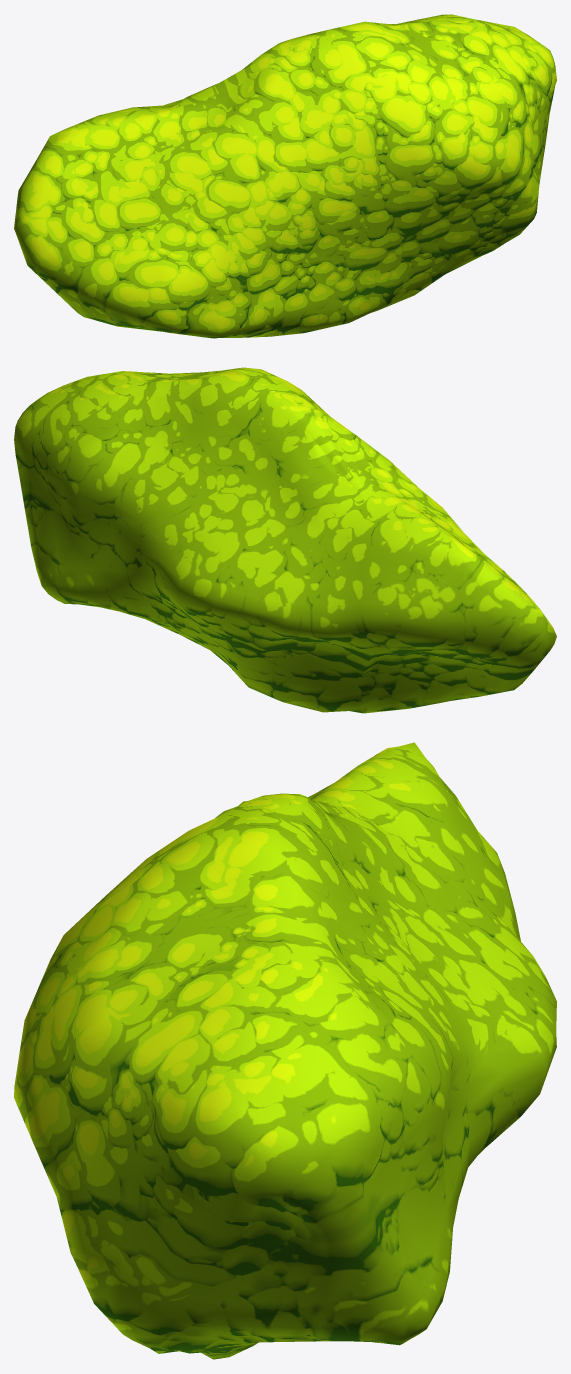
Rendered from leaves6.glb.
The picture shows the model from 3 angles, top to bottom: view 1: azimuth 30°, elevation 25°; view 2: azimuth 150°, elevation 25°; view 3: azimuth 270°, elevation 25°; orthographic projection. The views are drawn at different scales.
Visible parts, largest first — view 1: LP.002; view 2: LP.002; view 3: LP.002.
Boxes of the visible parts, x1,y1,x2,y2 form: LP.002: [14, 14, 556, 338]; LP.002: [14, 367, 556, 713]; LP.002: [14, 742, 556, 1359].
Bounding box in the file's own units: 3.53 × 1.83 × 1.77.
1 material, 1 textured.
